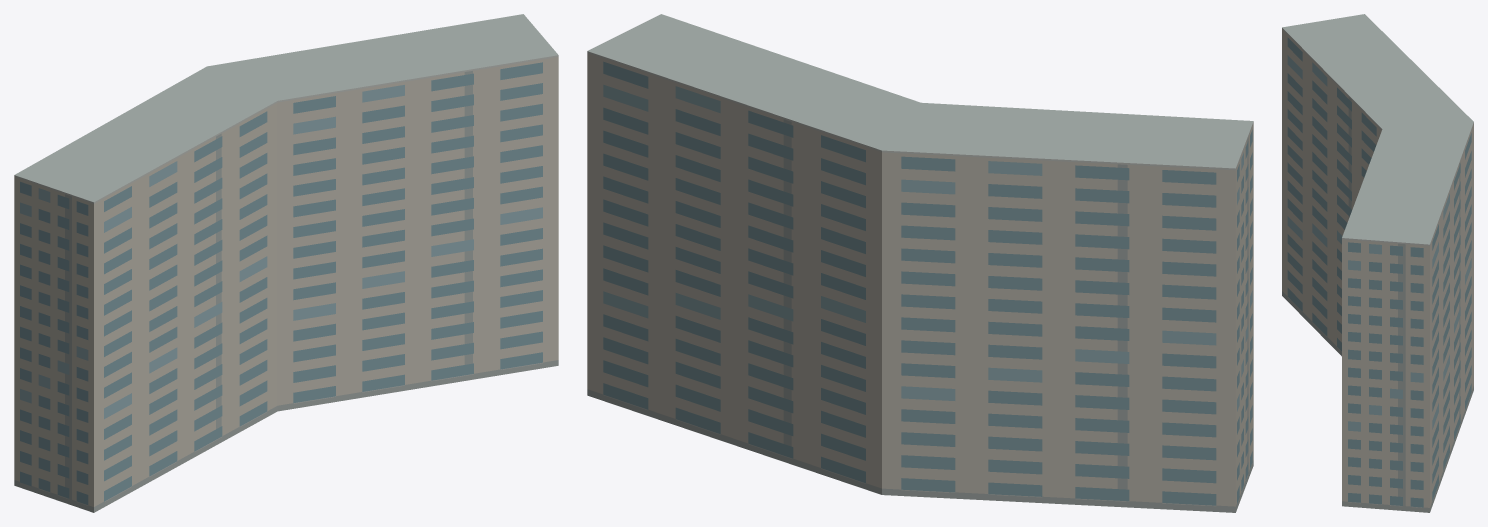
The model's file is residential-77b80895-297f-4361-9d86-1587a9bb6491.glb.
The picture shows the model from 3 angles, left to right: view 1: azimuth 30°, elevation 25°; view 2: azimuth 150°, elevation 25°; view 3: azimuth 270°, elevation 25°; orthographic projection. The views are drawn at different scales.
Visible parts, largest first — view 1: residential-77b80895-297f-4361-9d86-1587a9bb6491.tmp; view 2: residential-77b80895-297f-4361-9d86-1587a9bb6491.tmp; view 3: residential-77b80895-297f-4361-9d86-1587a9bb6491.tmp.
Boxes of the visible parts, x1,y1,x2,y2 form: residential-77b80895-297f-4361-9d86-1587a9bb6491.tmp: (14, 14, 558, 512); residential-77b80895-297f-4361-9d86-1587a9bb6491.tmp: (587, 14, 1253, 512); residential-77b80895-297f-4361-9d86-1587a9bb6491.tmp: (1282, 14, 1473, 512).
Size of the model in its own units: 84.34 by 45.75 by 29.67.
